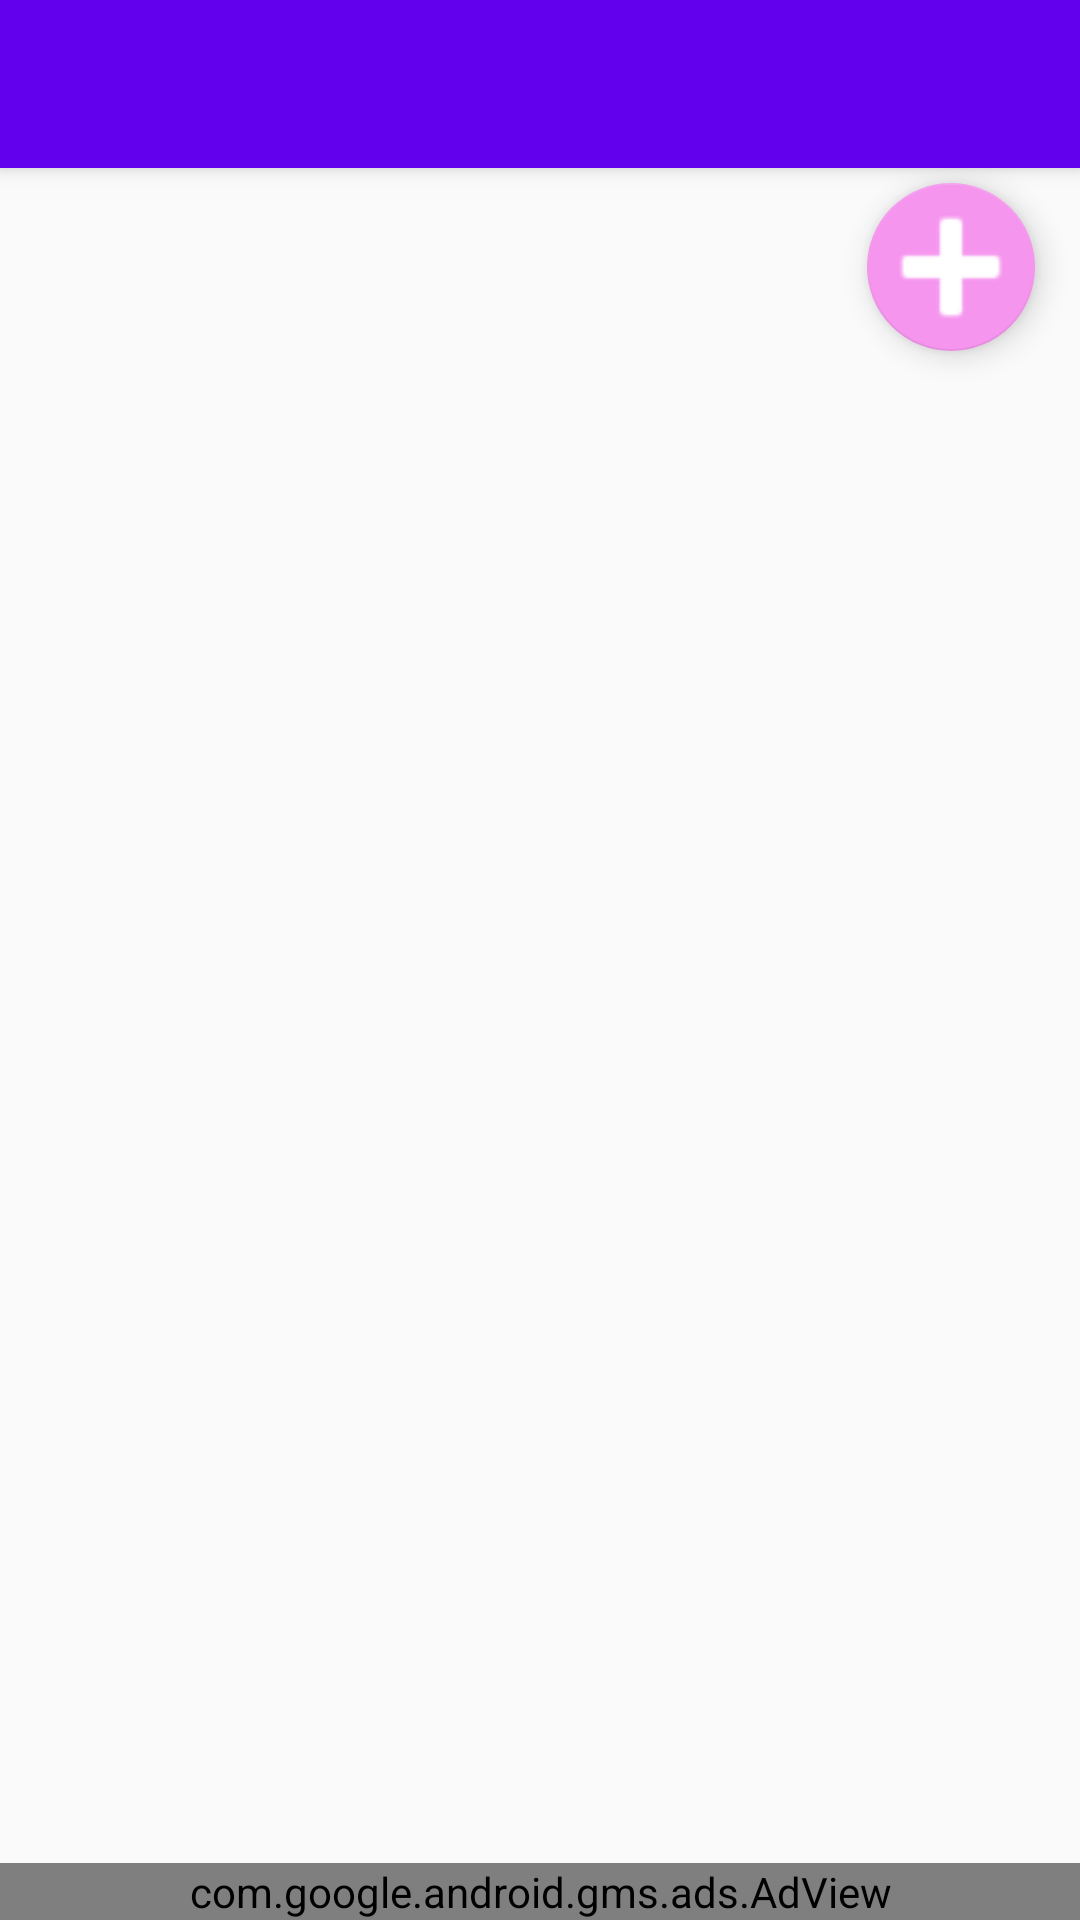

Named icons in this screenshot (1080×1920) and their centers, (x=x, y=y):
add: (x=951, y=267)
